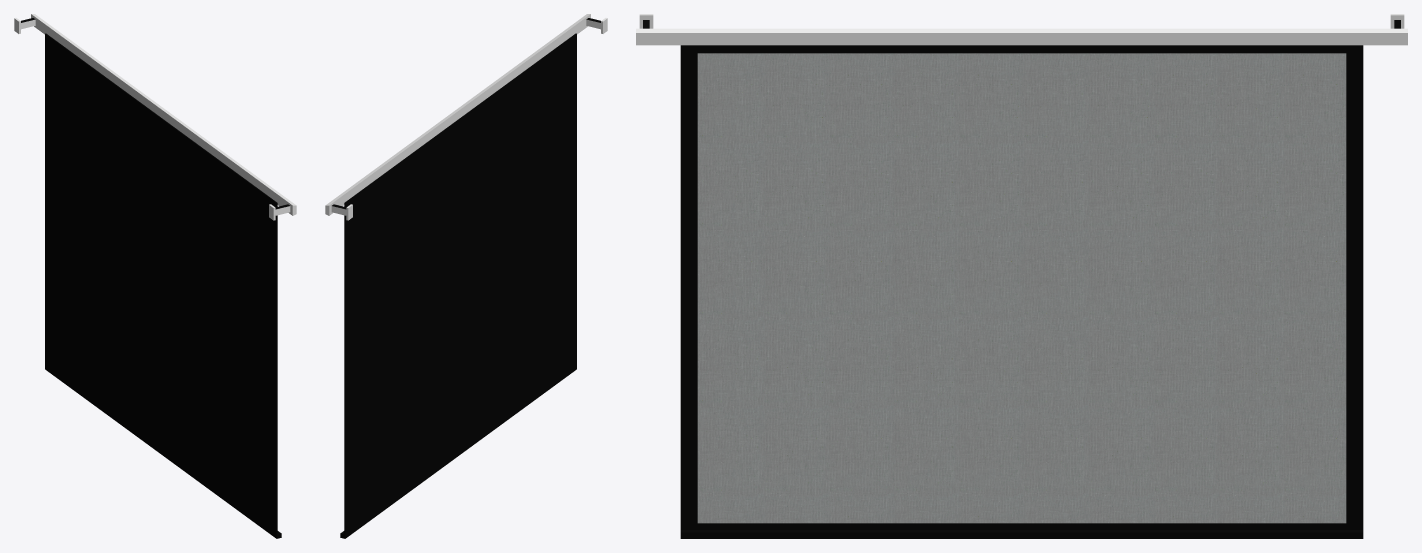
The model's file is projector_screen.glb.
3 renders of one model, left to right at view 1: azimuth 30°, elevation 25°; view 2: azimuth 150°, elevation 25°; view 3: azimuth 270°, elevation 25°, orthographic. The views are drawn at different scales.
Visible parts, largest first — view 1: projector_screen; view 2: projector_screen; view 3: projector_screen.
Part boxes in pixels (box(x1,y1,x2,y2)): projector_screen: box(14, 14, 296, 538); projector_screen: box(325, 14, 607, 538); projector_screen: box(636, 14, 1407, 538).
Size of the model in its own units: 0.11 by 1.65 by 2.26.
3 materials, 3 textured.
